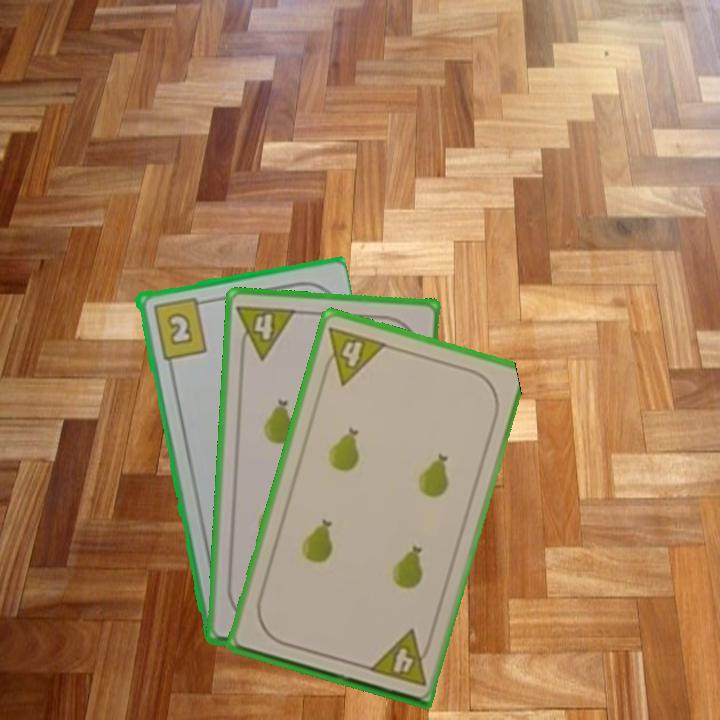2b: (149, 293, 210, 362)
4p: (317, 322, 390, 388), (364, 626, 435, 689), (233, 301, 299, 362)
